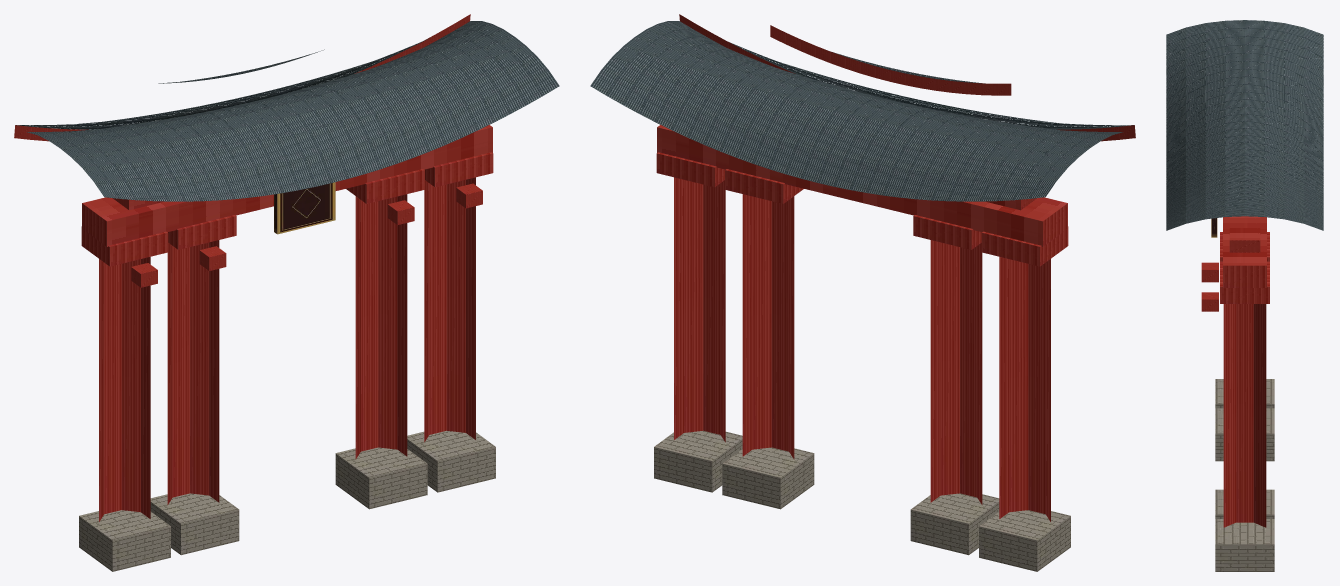
The model's file is acc_porte.095c767b45.glb.
The picture shows the model from 3 angles, left to right: view 1: azimuth 30°, elevation 25°; view 2: azimuth 150°, elevation 25°; view 3: azimuth 270°, elevation 25°; orthographic projection. The views are drawn at different scales.
Visible parts, largest first — view 1: porte (×4); view 2: porte (×3); view 3: porte (×3).
Boxes of the visible parts, x1,y1,x2,y2 form: porte (×4): [14, 14, 559, 571]; porte (×3): [590, 14, 1135, 571]; porte (×3): [1166, 20, 1323, 571].
Size of the model in its own units: 4.84 by 4.54 by 1.68.
4 materials, 4 textured.
